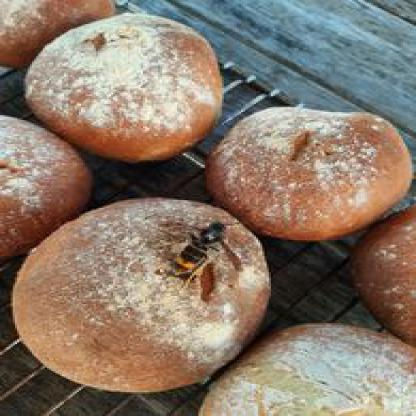Asian Hornet: (165, 213, 251, 302)
